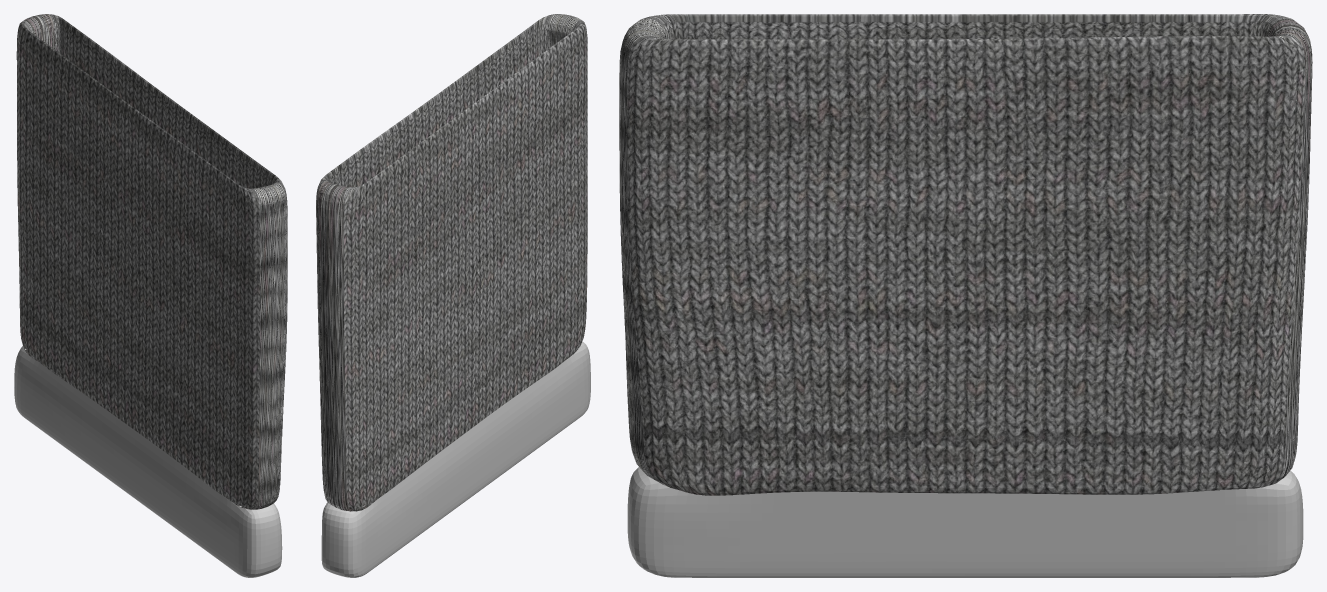
The model's file is clothes-dress.fbx.
3 views of the same model, side by side, from view 1: azimuth 30°, elevation 25°; view 2: azimuth 150°, elevation 25°; view 3: azimuth 270°, elevation 25° (orthographic). The views are drawn at different scales.
Visible parts, largest first — view 1: Cube.008, Cube.007; view 2: Cube.008, Cube.007; view 3: Cube.008, Cube.007.
Part boxes in pixels (box(x1,y1,x2,y2)): Cube.008: box(16, 14, 287, 509); Cube.007: box(14, 346, 282, 577); Cube.008: box(316, 14, 587, 511); Cube.007: box(321, 342, 590, 577); Cube.008: box(619, 14, 1312, 495); Cube.007: box(627, 467, 1303, 577).
Bounding box in the file's own units: 16.09 × 137 × 159.
